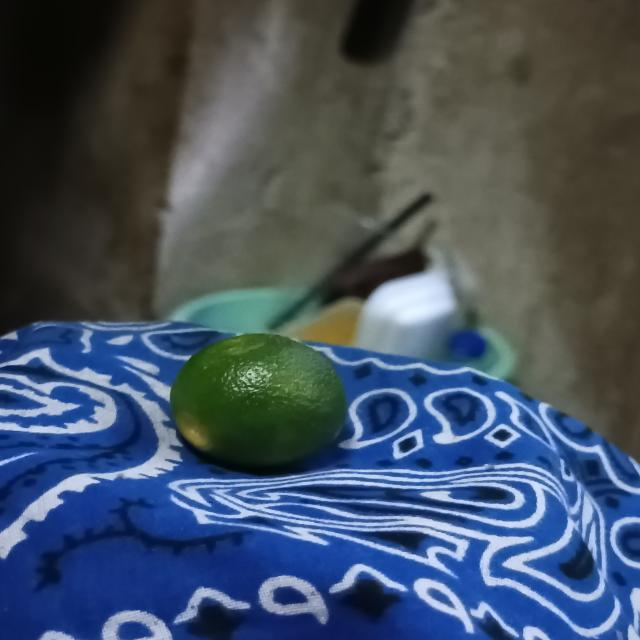heathy: (168, 334, 356, 471)
